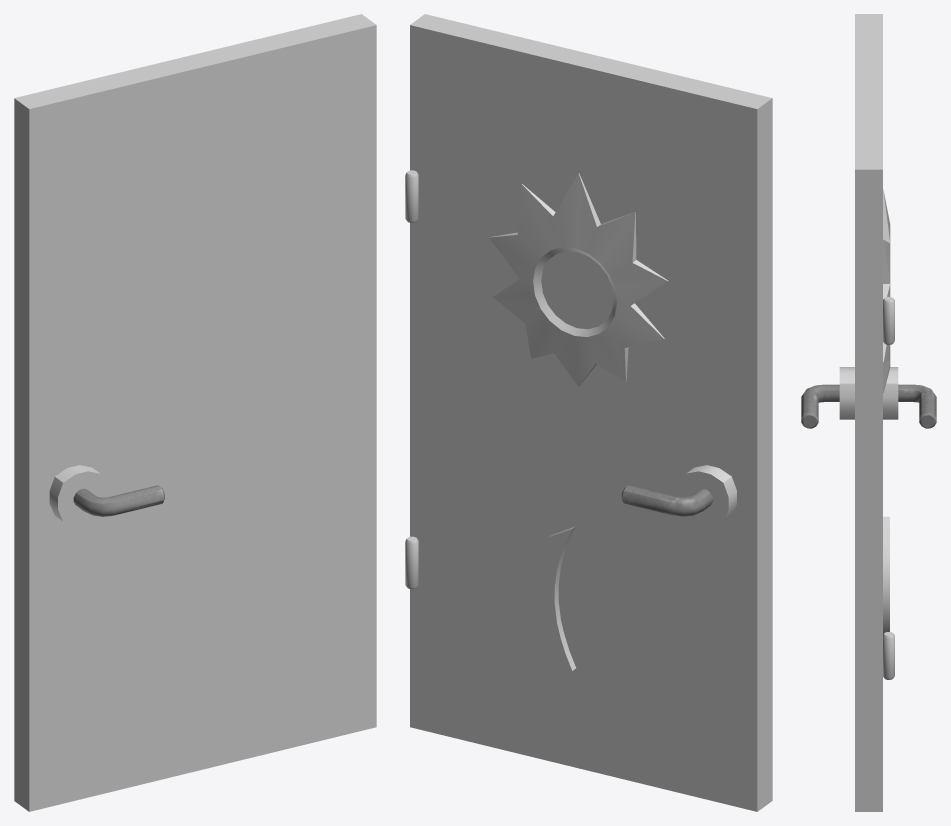
Rendered from Bedroom_Door.fbx.
The picture shows the model from 3 angles, left to right: view 1: azimuth 30°, elevation 25°; view 2: azimuth 150°, elevation 25°; view 3: azimuth 270°, elevation 25°; orthographic projection. The views are drawn at different scales.
Visible parts, largest first — view 1: Bedroom_Door, Bedroom_Door_Handle; view 2: Bedroom_Door, Bedroom_Door_Handle; view 3: Bedroom_Door, Bedroom_Door_Handle.
Boxes of the visible parts, <box> form: Bedroom_Door: <box>14,14,376,811</box>; Bedroom_Door_Handle: <box>73,485,164,516</box>; Bedroom_Door: <box>405,14,772,811</box>; Bedroom_Door_Handle: <box>621,485,712,516</box>; Bedroom_Door: <box>839,14,898,811</box>; Bedroom_Door_Handle: <box>801,384,936,428</box>.
Bounding box in the file's own units: 108 × 209 × 39.95.
